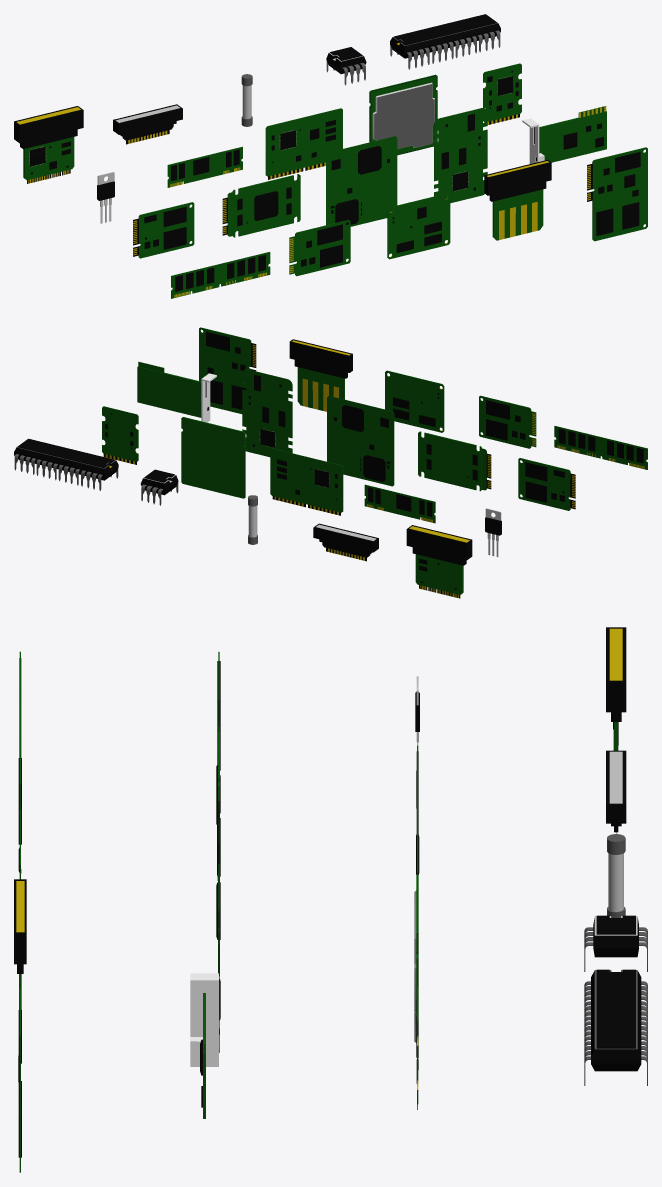
The model's file is componenteseletronicos.glb.
3 views of the same model, one above another, from view 1: azimuth 30°, elevation 25°; view 2: azimuth 150°, elevation 25°; view 3: azimuth 270°, elevation 25° (orthographic). The views are drawn at different scales.
Parts seen in each view (by area): view 1: mesh_id41, mesh_id45, mesh_id66, mesh_id27, mesh_id72, mesh_id16, mesh_id36, mesh_id86, mesh_id51, mesh_id105, mesh_id12, mesh_id23 (+23 smaller); view 2: mesh_id71, mesh_id41, mesh_id45, mesh_id66, mesh_id36, mesh_id51, mesh_id16, mesh_id27, mesh_id105, mesh_id86, mesh_id79, mesh_id12 (+21 smaller); view 3: mesh_id105, mesh_id52, mesh_id100, mesh_id106, mesh_id86, mesh_id91, mesh_id96, mesh_id23.
Boxes of the visible parts, x1,y1,x2,y2 form: mesh_id41: [326, 136, 397, 226]; mesh_id45: [434, 108, 487, 203]; mesh_id66: [265, 108, 342, 176]; mesh_id27: [592, 147, 647, 241]; mesh_id72: [374, 84, 434, 148]; mesh_id16: [387, 193, 450, 259]; mesh_id36: [227, 174, 300, 237]; mesh_id86: [14, 106, 83, 183]; mesh_id51: [539, 106, 606, 162]; mesh_id105: [390, 14, 500, 58]; mesh_id12: [289, 220, 350, 276]; mesh_id23: [484, 160, 551, 201]; mesh_id71: [181, 417, 245, 498]; mesh_id41: [327, 396, 394, 486]; mesh_id45: [242, 369, 292, 457]; mesh_id66: [270, 448, 343, 512]; mesh_id36: [418, 431, 486, 491]; mesh_id51: [137, 361, 201, 417]; mesh_id16: [385, 370, 444, 432]; mesh_id27: [199, 327, 251, 413]; mesh_id105: [14, 438, 118, 480]; mesh_id86: [406, 525, 472, 598]; mesh_id79: [102, 406, 138, 461]; mesh_id12: [479, 395, 536, 448]; mesh_id105: [591, 969, 641, 1071]; mesh_id52: [190, 973, 218, 1066]; mesh_id100: [593, 915, 638, 957]; mesh_id106: [584, 970, 647, 1085]; mesh_id86: [606, 627, 626, 750]; mesh_id91: [606, 750, 626, 833]; mesh_id96: [608, 853, 623, 911]; mesh_id23: [14, 879, 26, 973].
Bounding box in the file's own units: 0.512 × 0.1036 × 0.3277.
Materials: 63 (63 with a texture image).
